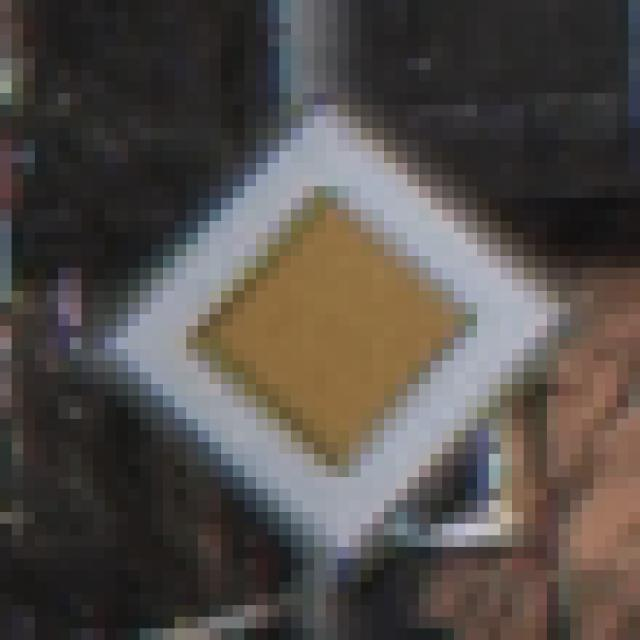Main Road: (71, 59, 583, 583)
